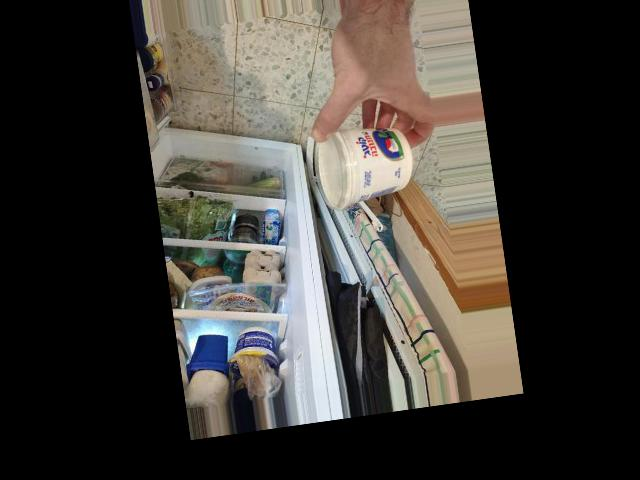cotage: (316, 115, 409, 203)
